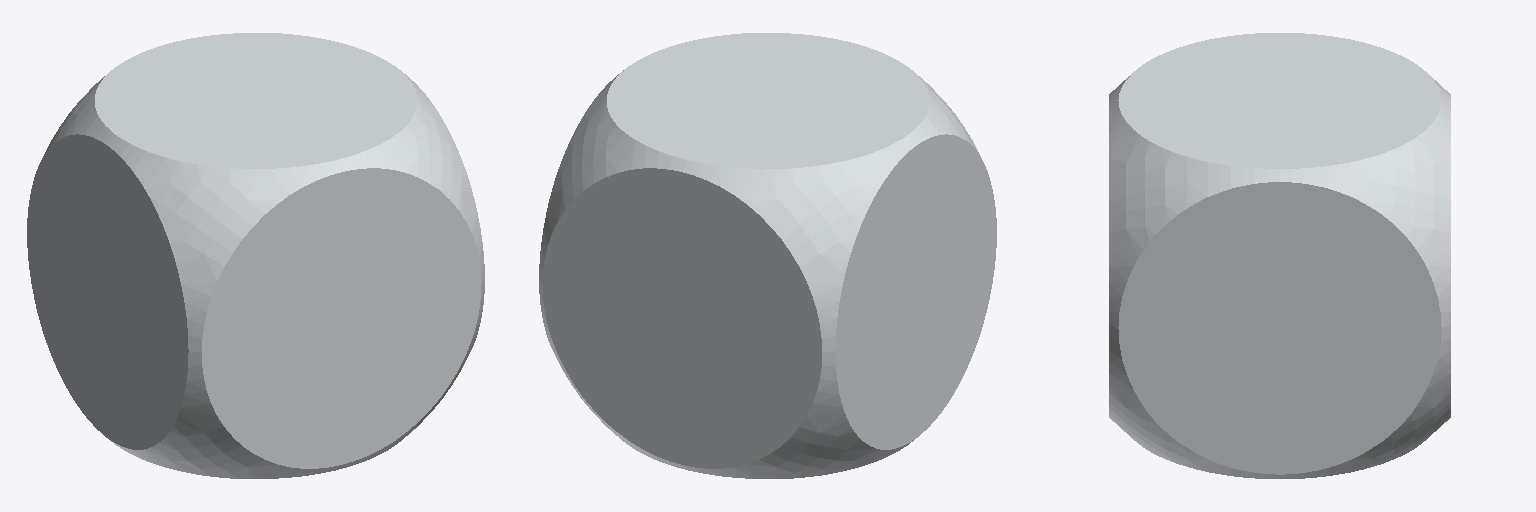
The model's file is tinker.obj.
3 renders of one model, left to right at view 1: azimuth 30°, elevation 25°; view 2: azimuth 150°, elevation 25°; view 3: azimuth 270°, elevation 25°, orthographic.
Visible parts, largest first — view 1: obj_0; view 2: obj_0; view 3: obj_0.
Part boxes in pixels (left/top/right/bottom): obj_0: left=27, top=33, right=484, bottom=478; obj_0: left=539, top=33, right=996, bottom=478; obj_0: left=1109, top=33, right=1450, bottom=478.
Bounding box in the file's own units: 1 × 1 × 1.